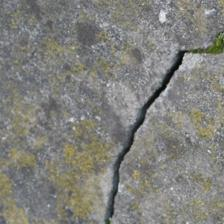Crack: (52, 25, 139, 198)
